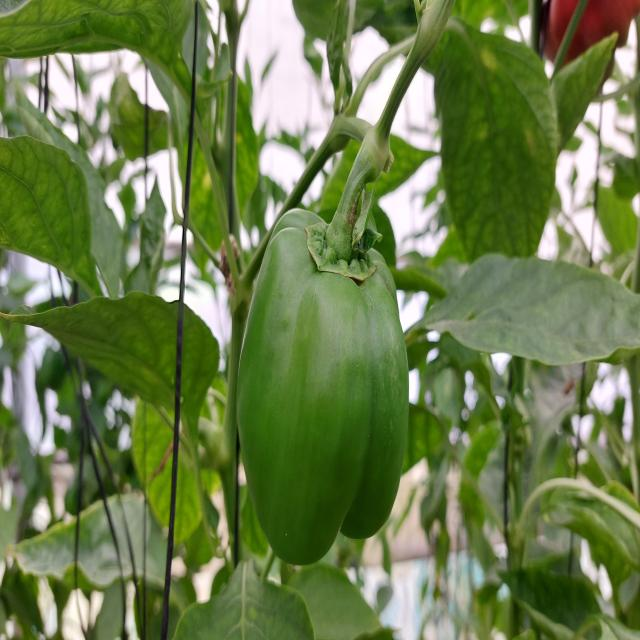Green--Not-ready-to-harvest: (238, 208, 408, 568)
